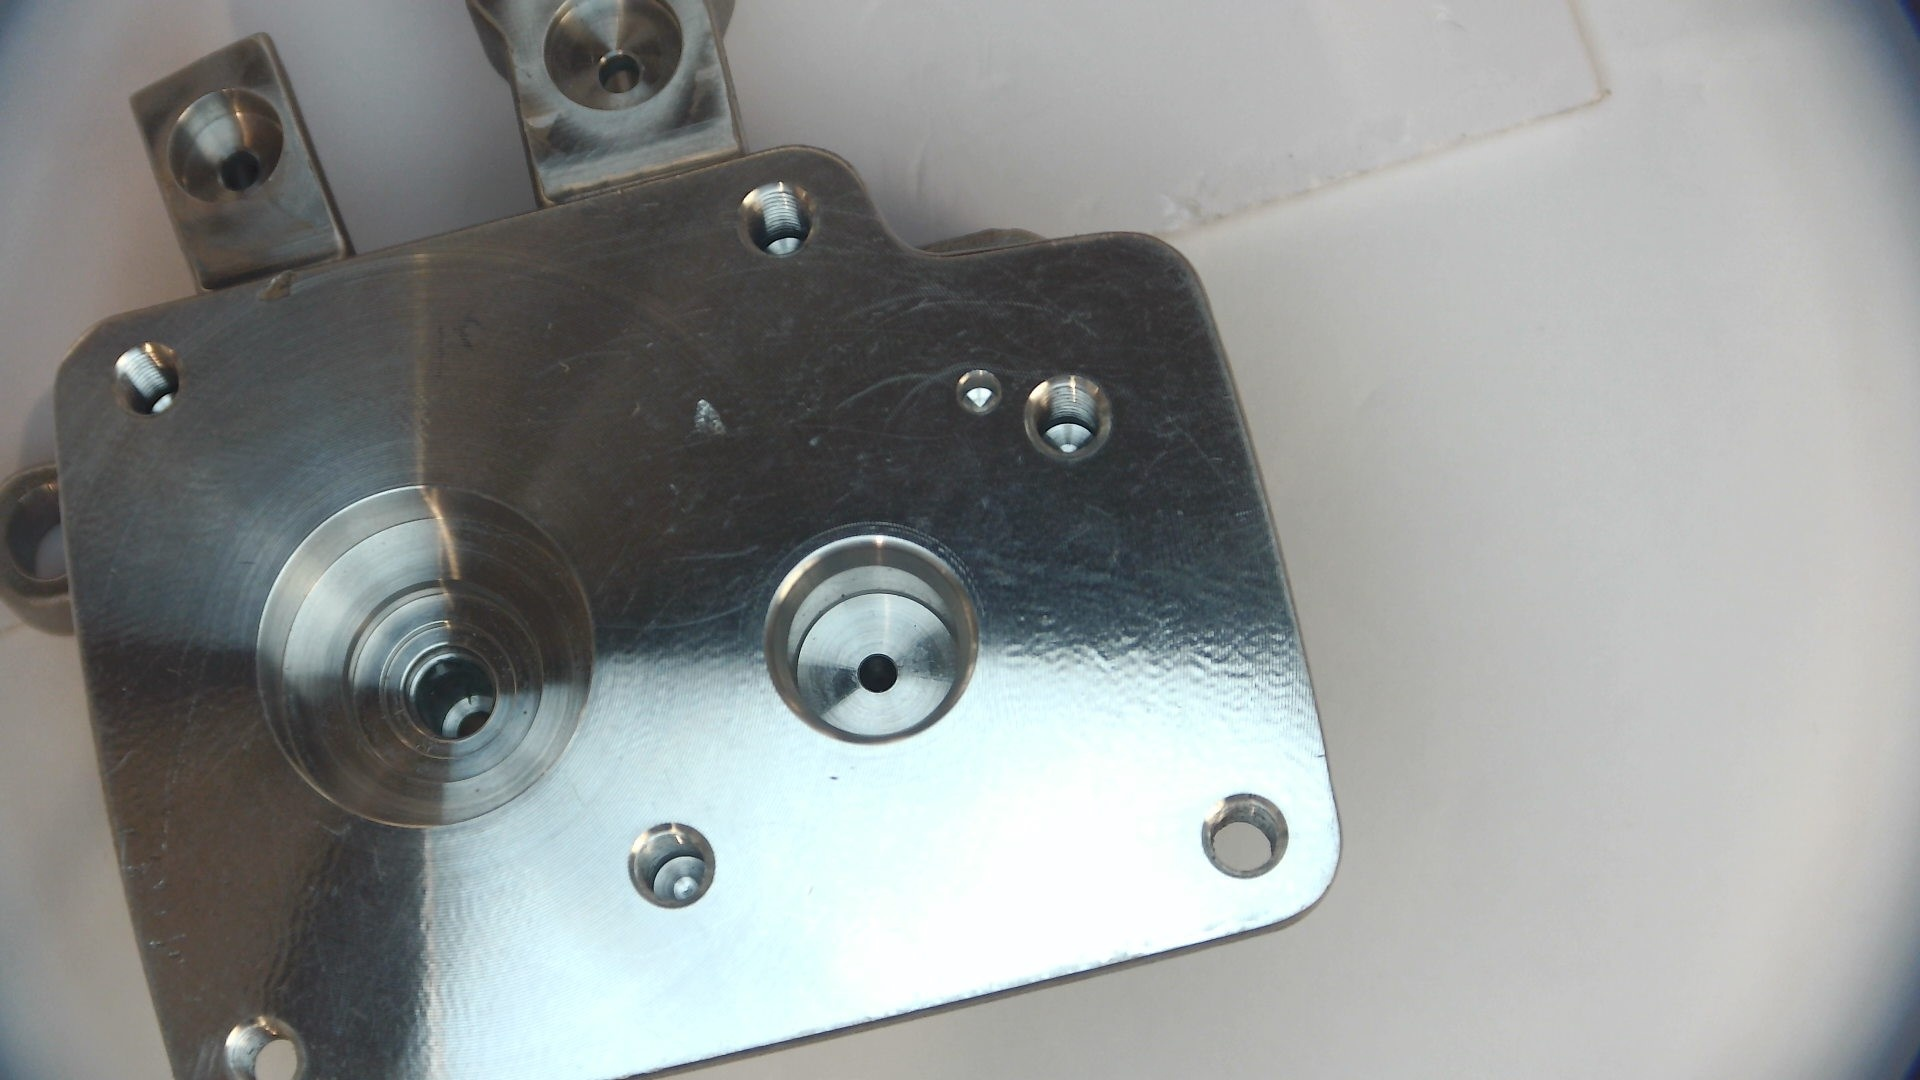dent: (1030, 380, 1100, 436), (257, 265, 301, 303)
thread_presence: (632, 825, 705, 890), (112, 343, 175, 414), (1207, 798, 1280, 857), (227, 1021, 276, 1080), (687, 396, 729, 446)
